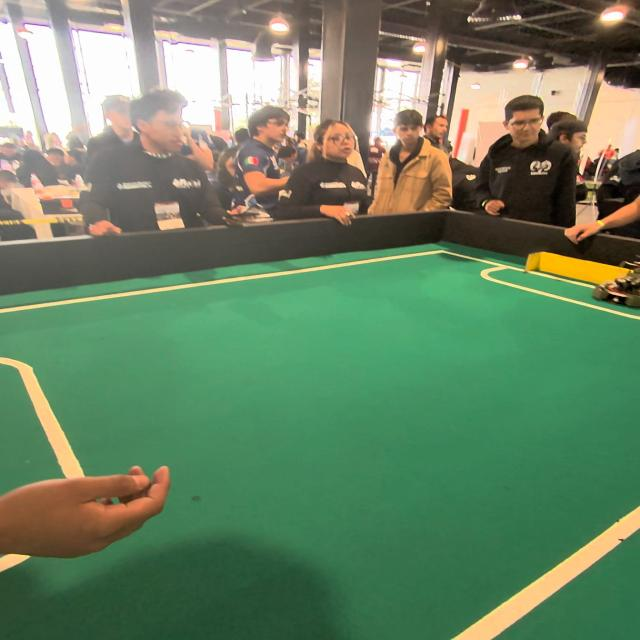Robot: (591, 249, 640, 309)
